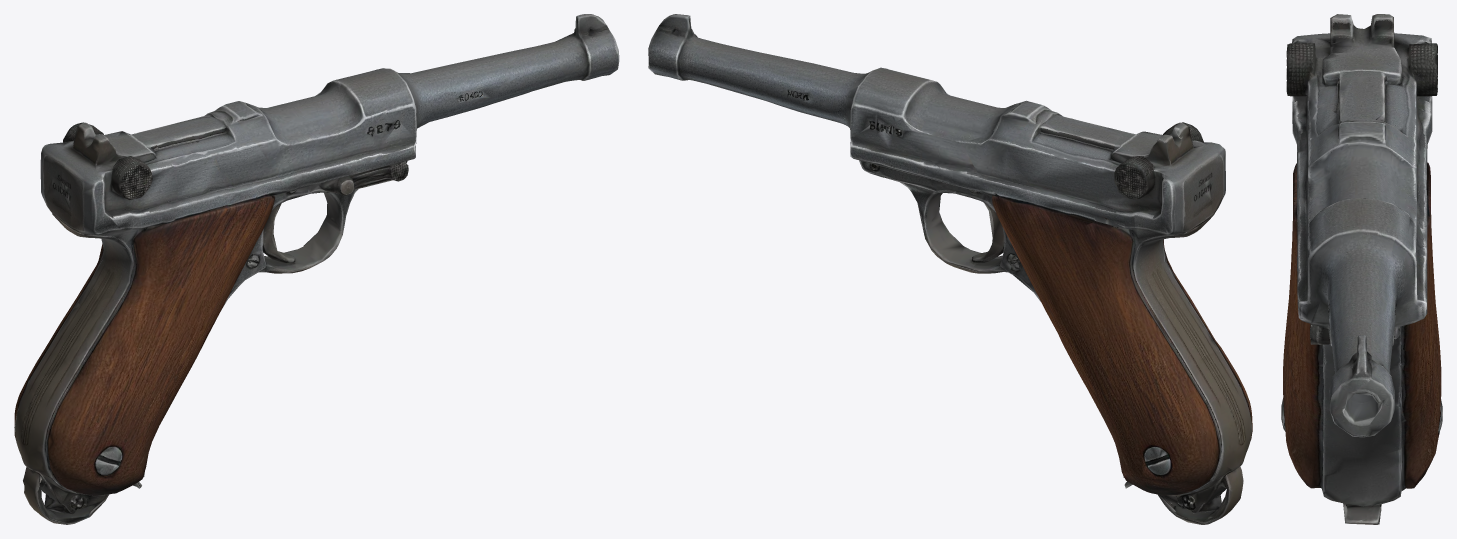
Rendered from handgun.glb.
3 views of the same model, side by side, from view 1: azimuth 30°, elevation 25°; view 2: azimuth 150°, elevation 25°; view 3: azimuth 270°, elevation 25° (orthographic). The views are drawn at different scales.
Parts seen in each view (by area): view 1: tripo_node_3e8331b7-1690-4a3d-a836-77983a691b95; view 2: tripo_node_3e8331b7-1690-4a3d-a836-77983a691b95; view 3: tripo_node_3e8331b7-1690-4a3d-a836-77983a691b95.
Part boxes in pixels (x1,y1,x2,y2): tripo_node_3e8331b7-1690-4a3d-a836-77983a691b95: (14, 14, 619, 524); tripo_node_3e8331b7-1690-4a3d-a836-77983a691b95: (648, 14, 1252, 524); tripo_node_3e8331b7-1690-4a3d-a836-77983a691b95: (1281, 14, 1442, 524).
Bounding box in the file's own units: 0.9782 × 0.6116 × 0.1763.
Materials: 1 (1 with a texture image).
